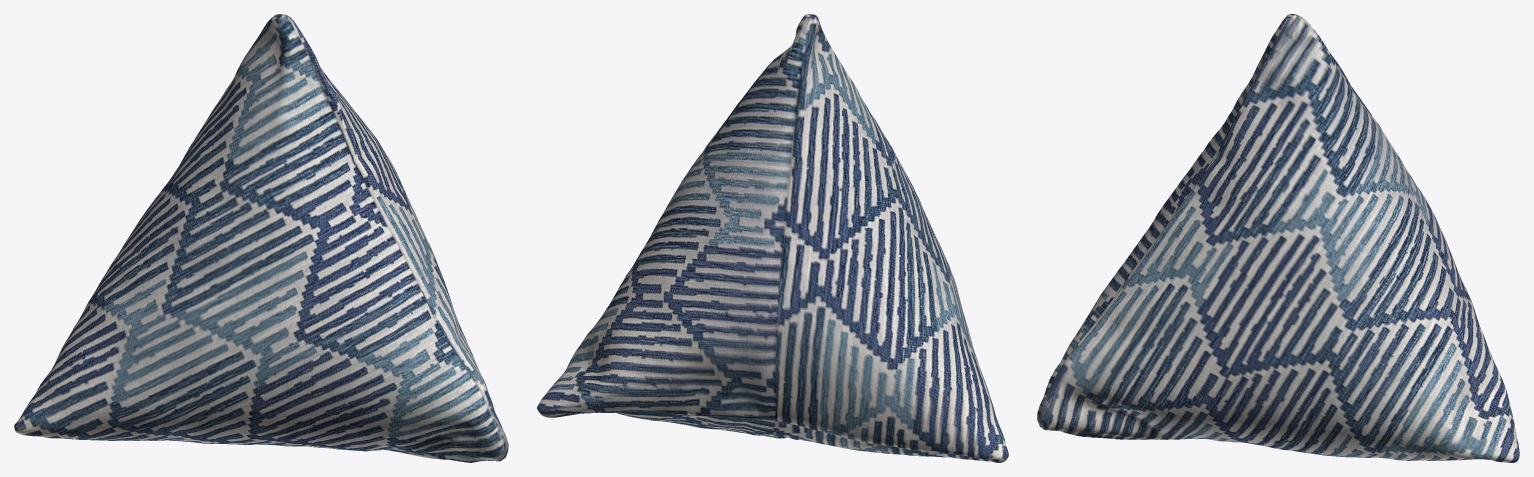
File: pillow2.glb
3 views of the same model, side by side, from view 1: azimuth 30°, elevation 25°; view 2: azimuth 150°, elevation 25°; view 3: azimuth 270°, elevation 25° (orthographic). The views are drawn at different scales.
Parts seen in each view (by area): view 1: Mesh; view 2: Mesh; view 3: Mesh.
Part boxes in pixels (<box>): Mesh: <box>14,14,508,462</box>; Mesh: <box>537,14,1008,462</box>; Mesh: <box>1037,14,1519,462</box>.
Bounding box in the file's own units: 36.65 × 35.56 × 37.97.
Materials: 1 (1 with a texture image).
